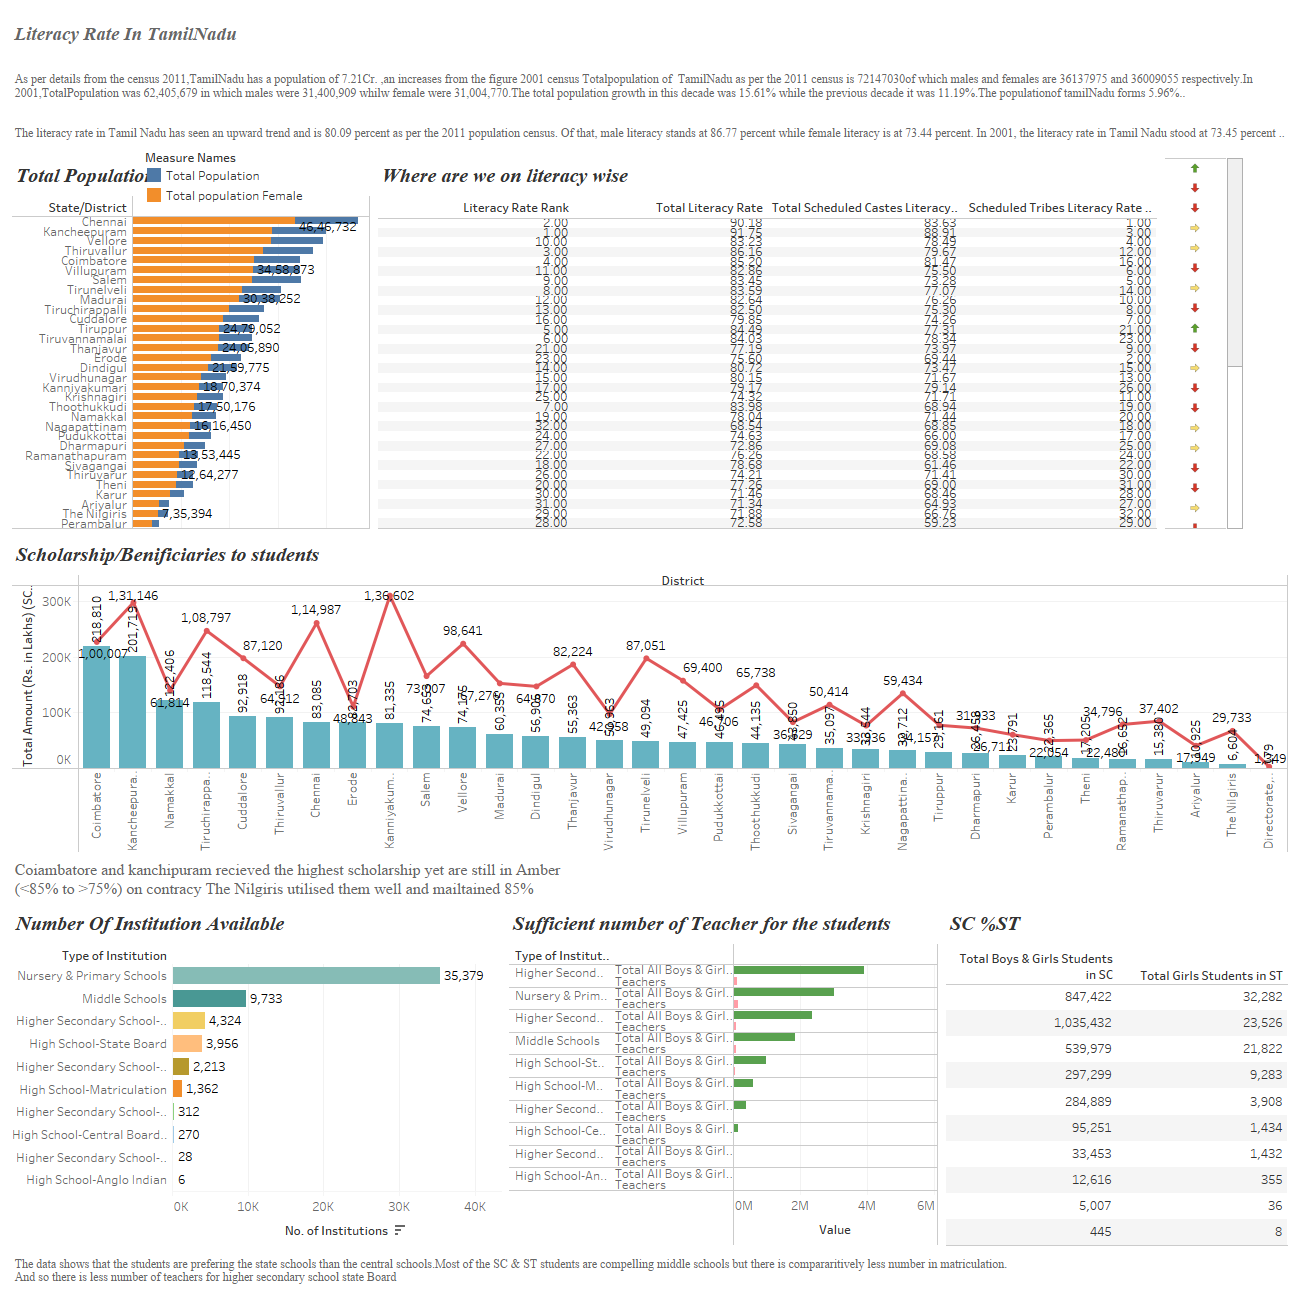

The dashboard page shown, as its layout file describes it:
{"tool":"tableau","page":{"name":"PROJECT-2 DashBoard","canvas":[1300,1300],"ordinal":0},"visuals":[{"type":"text","box":[8,8,1284,52.4]},{"type":"text","box":[8,60.4,1284,52.4]},{"type":"text","box":[8,112.8,1284,41.4]},{"type":"legend","title":"Total Population","param":"[federated.0fpbfso1azgklr1bamykd0kqf6xt].[:Measure Names]","box":[144,147,211,55]},{"type":"worksheet","title":"Where we are on literacy wise ","mark":"Automatic","rows":["State/District"],"box":[374,154,787,379]},{"type":"worksheet","title":"Total Population","mark":"Bar","rows":["State/District"],"cols":["Total Population","Total population Female"],"box":[8,154.2,366,378.8]},{"type":"worksheet","title":"Sheet 3","mark":"Shape","rows":["State/District"],"box":[1161,154.2,131,378.8]},{"type":"worksheet","title":"Scho/beni to students","mark":"Line","rows":["Total No of Beneficiaries (SC+ST+MBC/DNC+BC Christian+Muslim"],"cols":["District"],"box":[8,533,1284,324.3]},{"type":"text","box":[8,857.4,1284,44.7]},{"type":"worksheet","title":"No.Of Institute","mark":"Automatic","rows":["Type of Institution"],"cols":["No. of Institutions"],"box":[8,902.1,497.1,348.2]},{"type":"worksheet","title":"Sufficient Teacher to students","mark":"Bar","rows":["Type of Institution"],"box":[505.1,902.1,437.1,348.2]},{"type":"worksheet","title":"SC % ST","mark":"Automatic","rows":["Type of Institution"],"box":[942.3,902.1,349.7,348.2]},{"type":"text","box":[8,1250.2,1284,41.8]}]}

Visuals, with their boxes in screenshot pixels (x1, y1, x2, y2), scaled from the page's 1300x1300 canvas onto the 1300x1300 screenshot:
text: (8, 8, 1292, 60)
text: (8, 60, 1292, 113)
text: (8, 113, 1292, 154)
"Total Population" legend: (144, 147, 355, 202)
"Where we are on literacy wise " worksheet: (374, 154, 1161, 533)
"Total Population" worksheet (Bar marks): (8, 154, 374, 533)
"Sheet 3" worksheet (Shape marks): (1161, 154, 1292, 533)
"Scho/beni to students" worksheet (Line marks): (8, 533, 1292, 857)
text: (8, 857, 1292, 902)
"No.Of Institute" worksheet: (8, 902, 505, 1250)
"Sufficient Teacher to students" worksheet (Bar marks): (505, 902, 942, 1250)
"SC % ST" worksheet: (942, 902, 1292, 1250)
text: (8, 1250, 1292, 1292)
